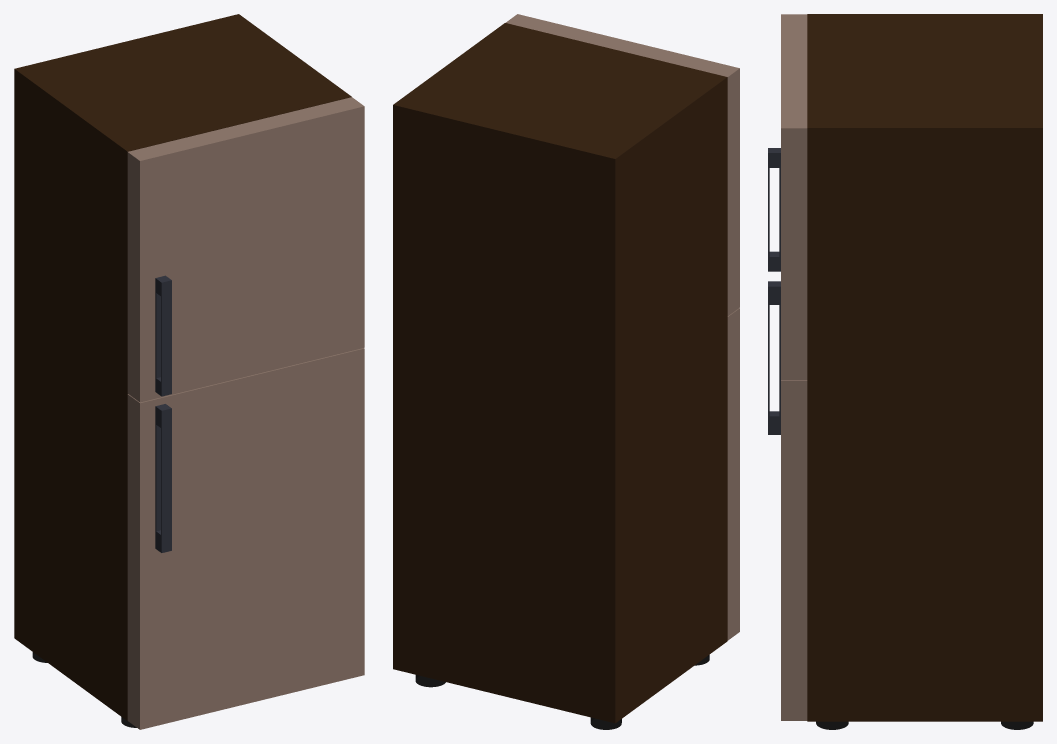
The model's file is Fridge.glb.
The picture shows the model from 3 angles, left to right: view 1: azimuth 30°, elevation 25°; view 2: azimuth 150°, elevation 25°; view 3: azimuth 270°, elevation 25°; orthographic projection. The views are drawn at different scales.
Parts seen in each view (by area): view 1: bFridge, FridgeDoor, FreezerDoor, hFridge, hFreezer; view 2: bFridge, FreezerDoor, FridgeDoor, Patas; view 3: bFridge, FreezerDoor, FridgeDoor, hFridge, hFreezer, Patas.
Boxes of the visible parts, x1,y1,x2,y2 form: bFridge: [14, 14, 351, 720]; FridgeDoor: [127, 348, 364, 729]; FreezerDoor: [127, 97, 364, 402]; hFridge: [155, 404, 171, 552]; hFreezer: [155, 275, 171, 396]; bFridge: [393, 23, 727, 723]; FreezerDoor: [505, 14, 739, 315]; FridgeDoor: [727, 308, 739, 640]; Patas: [415, 655, 709, 729]; bFridge: [807, 14, 1042, 721]; FreezerDoor: [781, 14, 807, 379]; FridgeDoor: [781, 380, 807, 720]; hFridge: [768, 281, 780, 434]; hFreezer: [768, 148, 780, 271]; Patas: [816, 721, 1033, 729].
Size of the model in its own units: 1.65 by 4.1 by 1.68.
